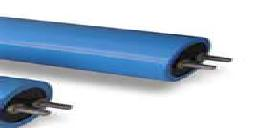Electrolytic Capacitor: (123, 20, 242, 89), (1, 69, 73, 128)
